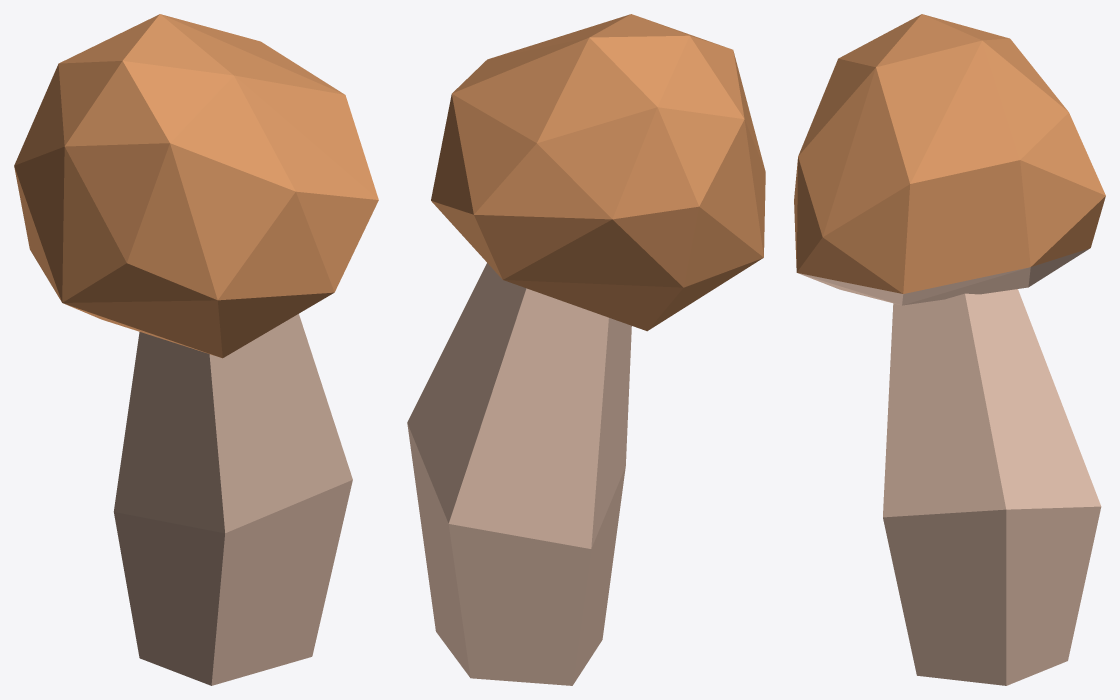
Rendered from Mushroom_f_05.fbx.
The picture shows the model from 3 angles, left to right: view 1: azimuth 30°, elevation 25°; view 2: azimuth 150°, elevation 25°; view 3: azimuth 270°, elevation 25°; orthographic projection. The views are drawn at different scales.
Parts seen in each view (by area): view 1: Mushroom_f_05; view 2: Mushroom_f_05; view 3: Mushroom_f_05.
Part boxes in pixels (x1,y1,x2,y2): Mushroom_f_05: [14, 14, 378, 685]; Mushroom_f_05: [407, 14, 765, 685]; Mushroom_f_05: [794, 14, 1105, 685].
Size of the model in its own units: 8.24 by 16.45 by 7.81.
